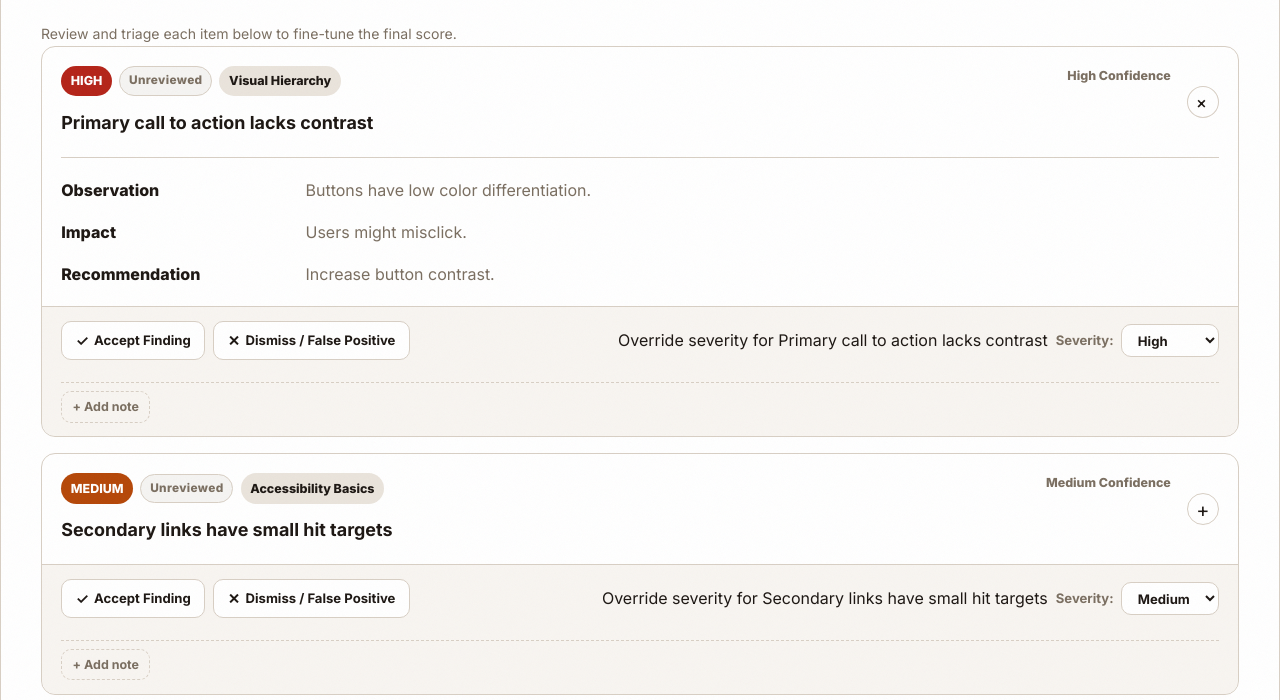
Scenario: AuditResults HITL Review Experience › transitions finding to accepted when 'Accept Finding' is clicked, marking review in-progress
(page scrolled)
Click the button "✓ Accept Finding" below "Observation" at (133, 341), box [61,321,205,360]
(page scrolled)
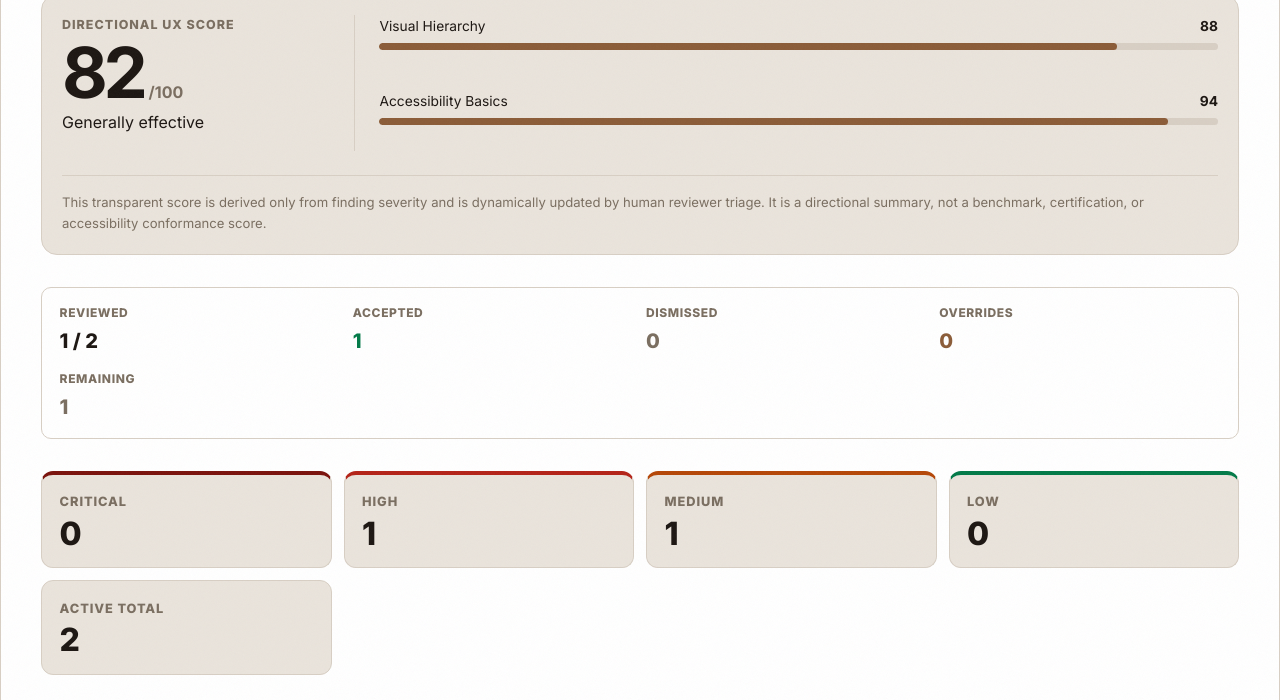
Check: the text "1 / 2" is shown, box [60,329,98,353]
